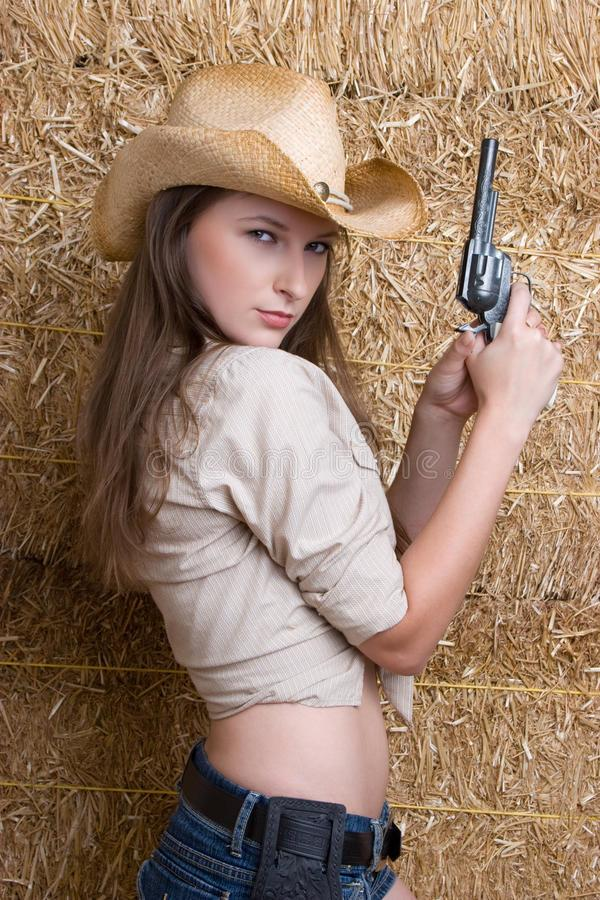criminal: (72, 56, 568, 900)
weapon: (445, 128, 536, 346)
